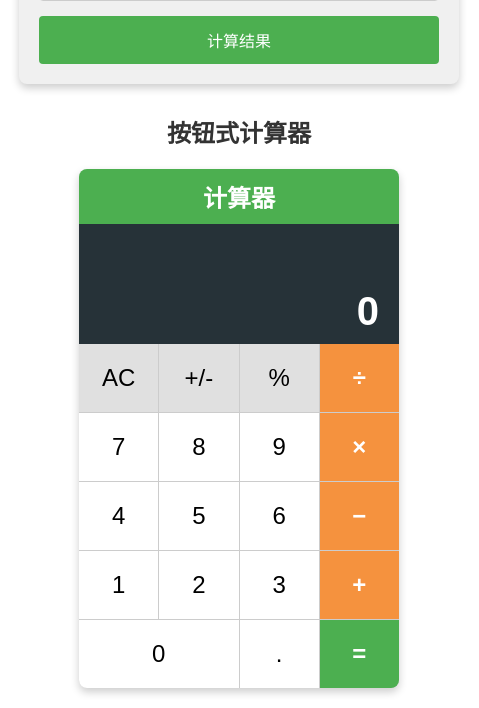
it: 计算器组件测试 › 按钮式计算器 › 点击操作符和等号执行计算
(page scrolled)
#  输入第一个数字
Click the button "5".
click(199, 516)  # box [159, 482, 239, 550]
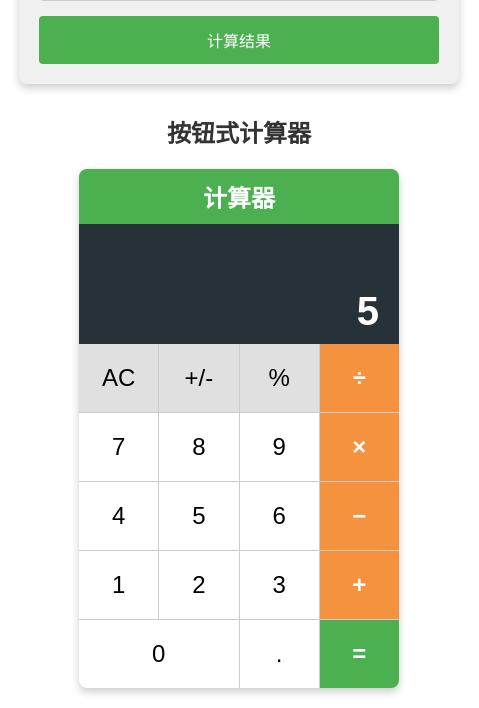
Click the button "+".
click(359, 585)  # box [320, 551, 399, 619]
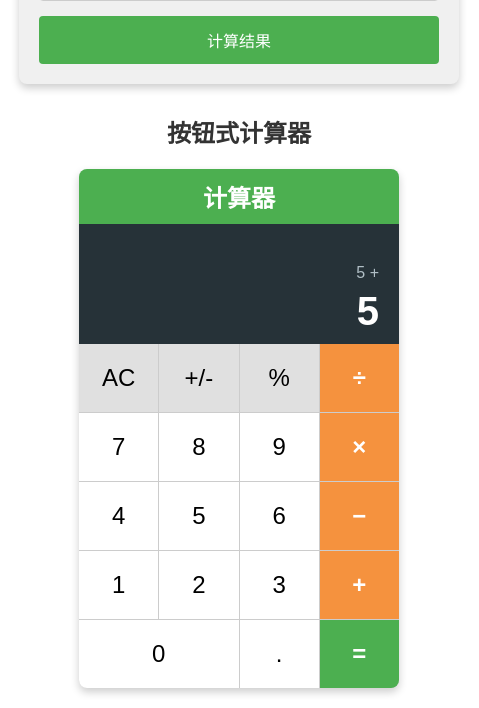
#  输入第二个数字
Click the button "3".
click(279, 585)  # box [240, 551, 319, 619]
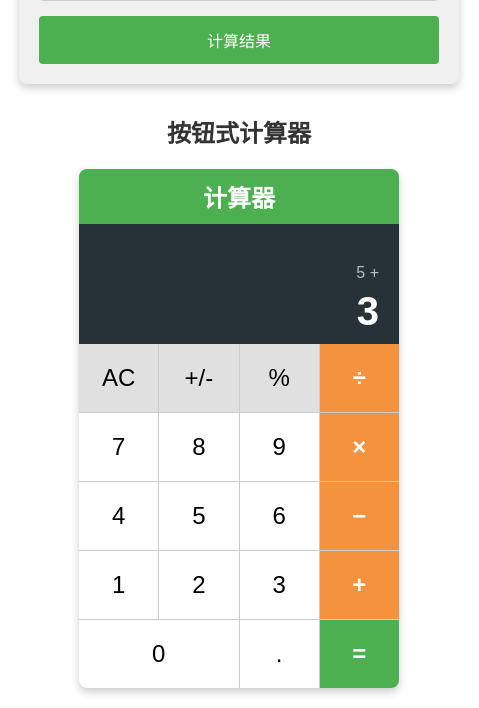
Click the button "=".
click(359, 654)  # box [320, 620, 399, 688]
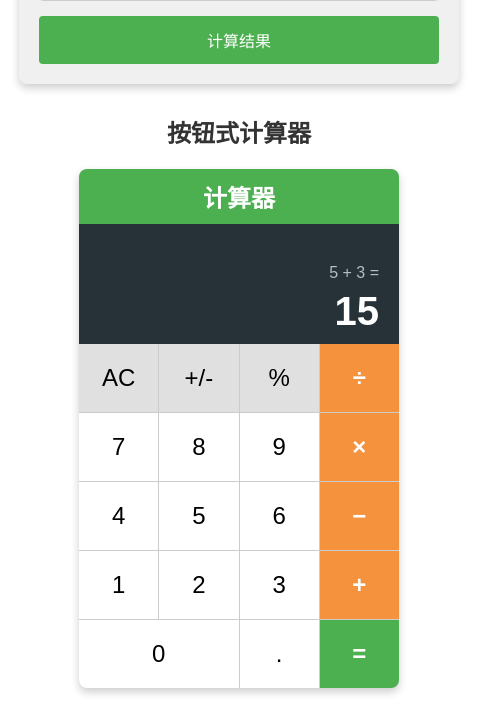
Check: the text "15" is shown, box [334, 289, 379, 333]
